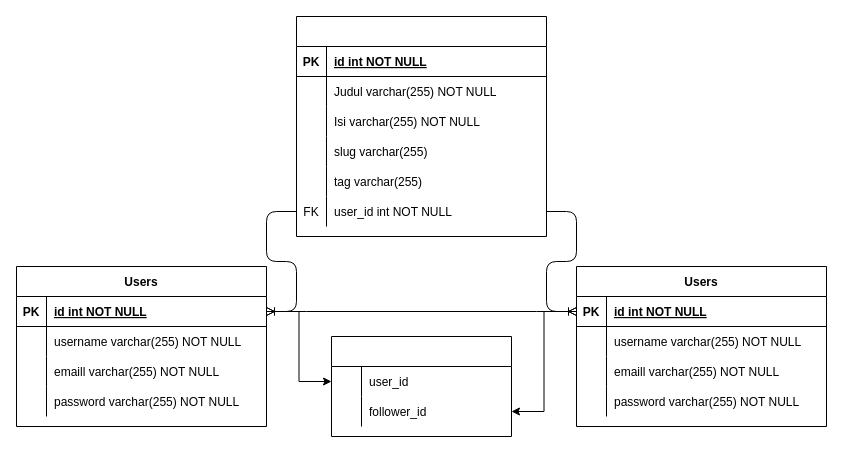
The diagram is 843 pixels wide and 453 high, and some of its shapes have lost their labels. The shapes that lost their labels are listed below. From the top down, each one's box as (x1, y1, x2, y2) in pixels, then its label:
(296, 16, 546, 236): Articles
(330, 336, 512, 436): follow_system
